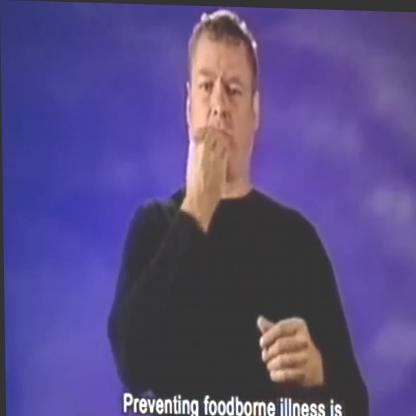Food: (166, 4, 268, 195)
